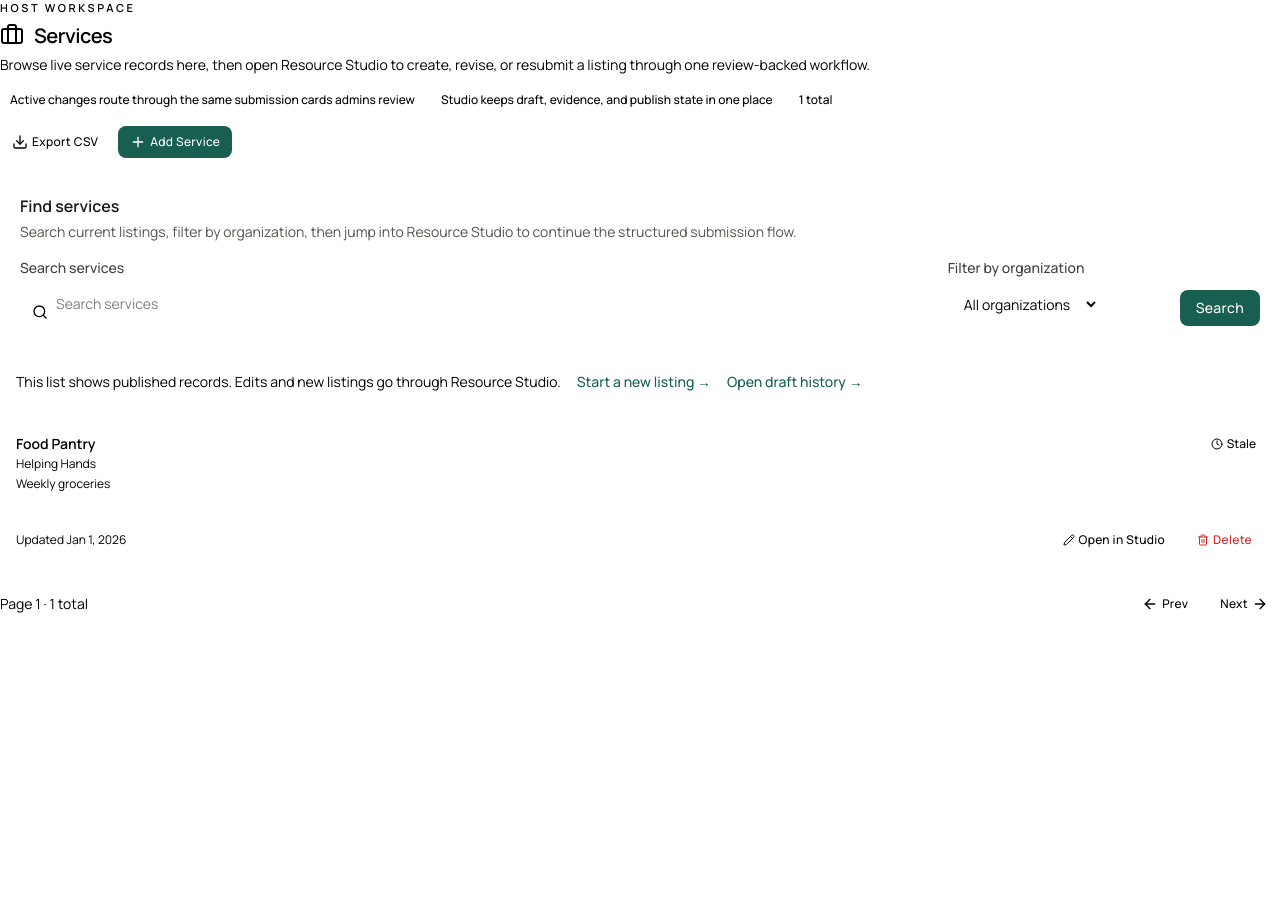
it: host services page › shows API delete errors when archive fails
The width and height of the screenshot is (1280, 900).
Expected: the heading "Food Pantry" is shown, [16,434,95,454]
Click the button "Delete".
click(1225, 540)  # box [1185,524,1264,556]
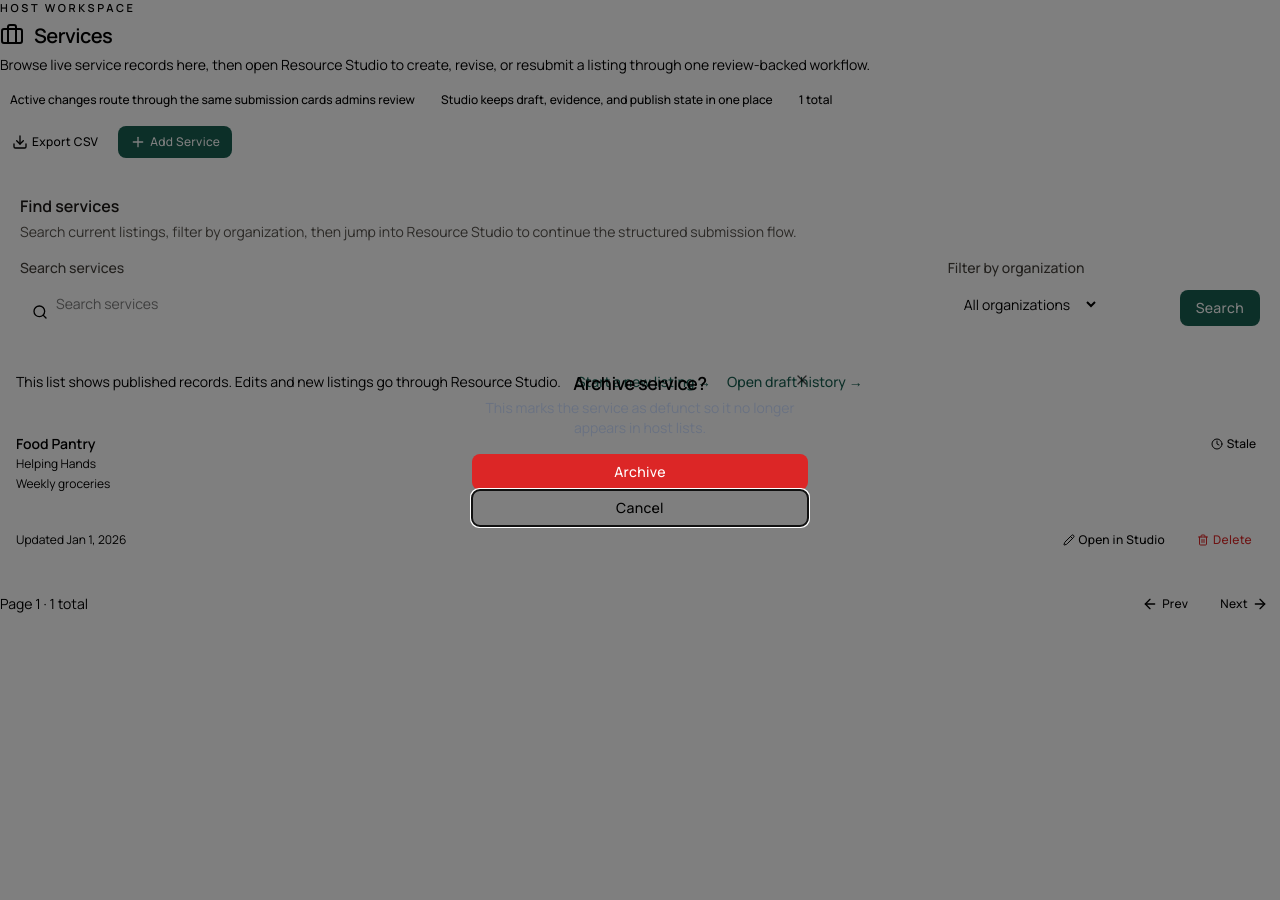
Click the button "Archive".
click(640, 472)  # box [472,454,808,490]
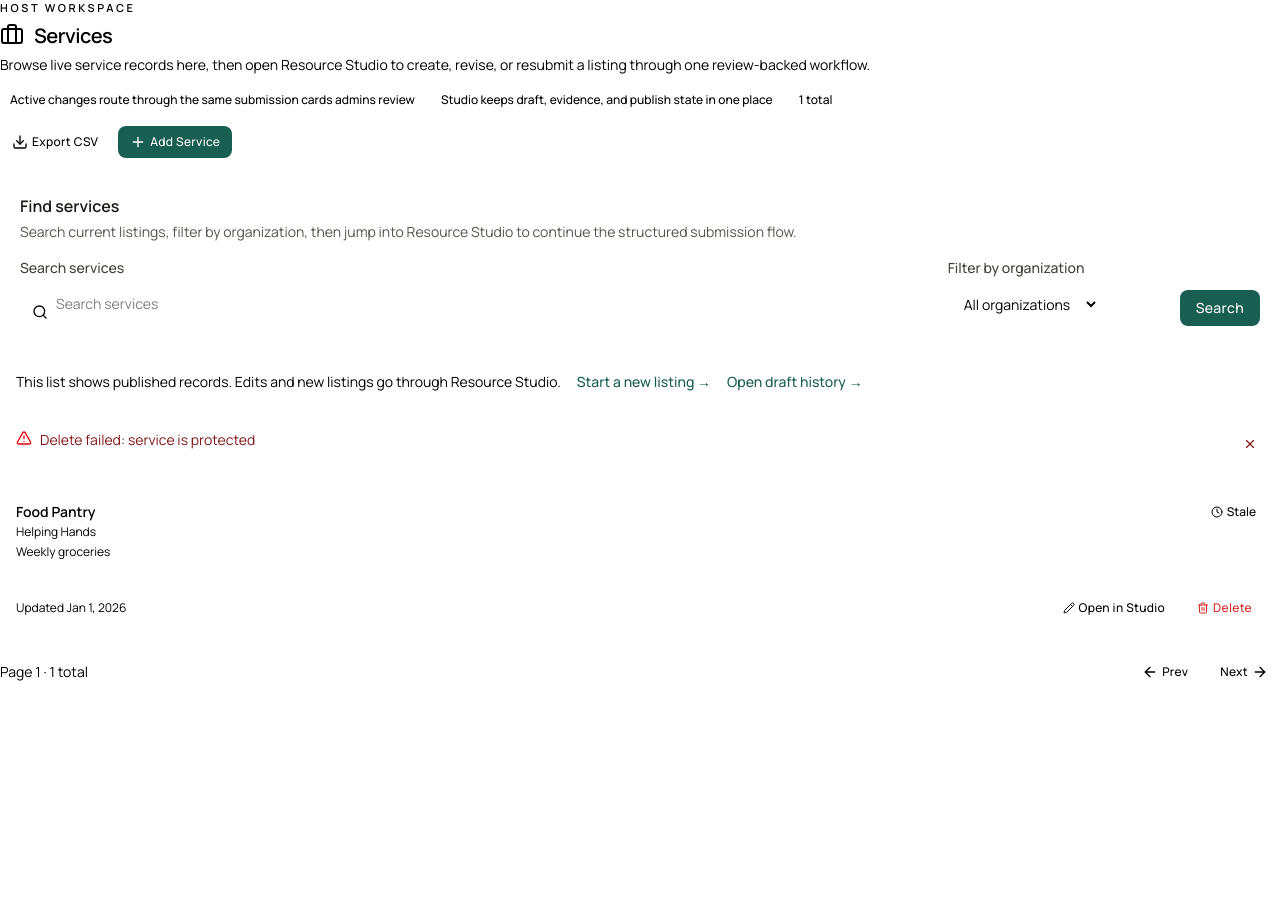
Expected: the message "Delete failed: service is protected" is shown, [16,430,1264,458]
Expected: the text "Delete failed: service is protected" is shown, [40,430,255,449]
